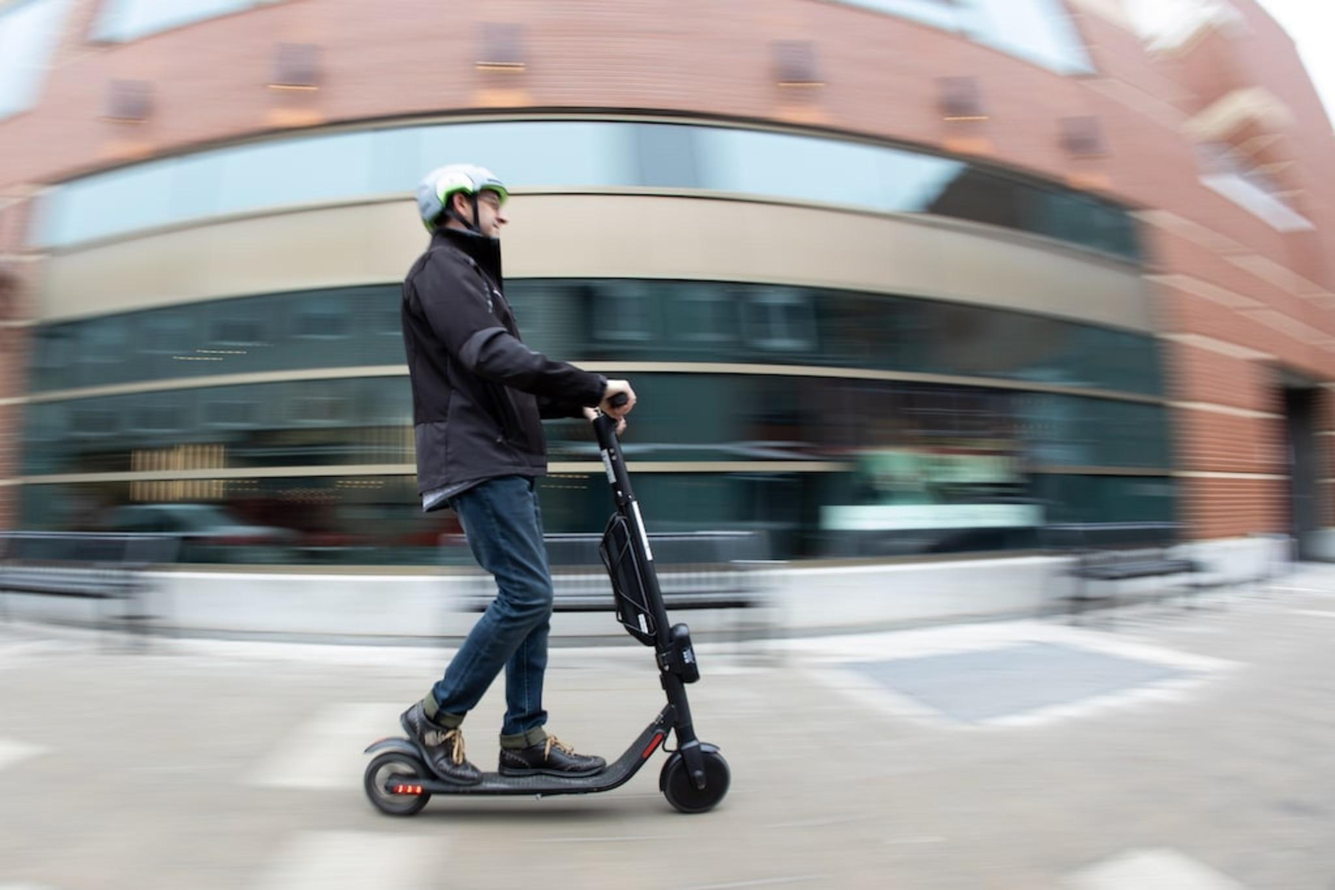helmet: (410, 165, 510, 254)
human: (384, 163, 634, 764)
kickboard: (362, 727, 739, 823)
